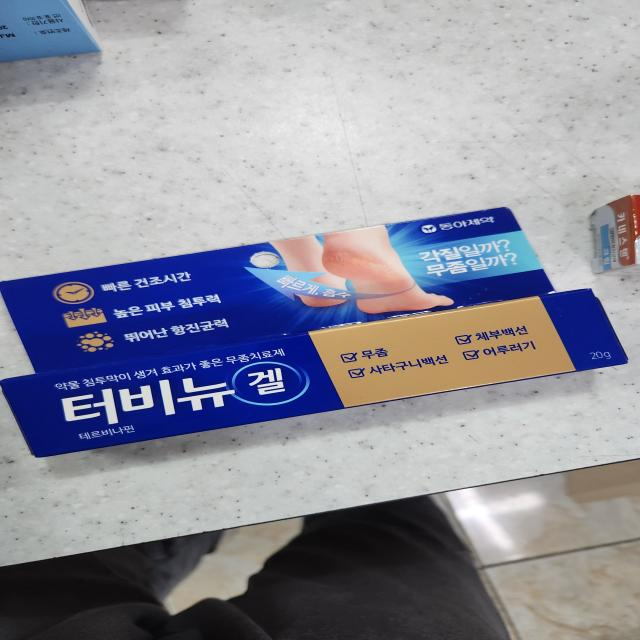box: (3, 212, 628, 456), (1, 1, 100, 62), (590, 197, 640, 270), (566, 463, 640, 502)
